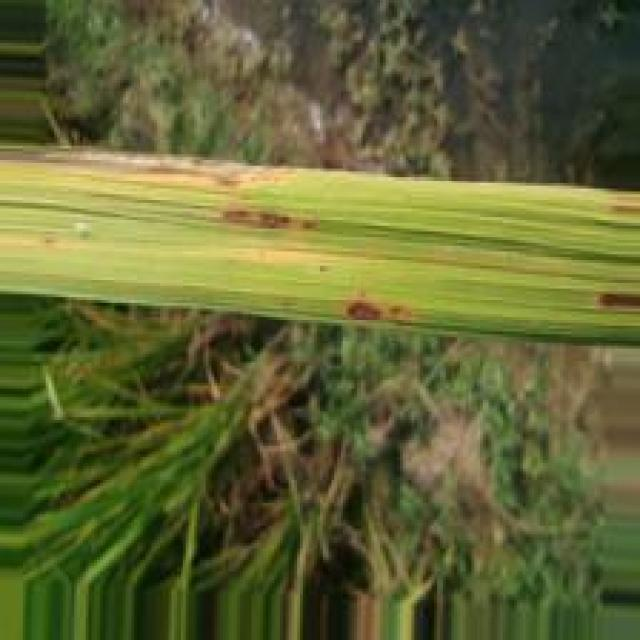Leaf_Blast: (16, 150, 306, 194)
